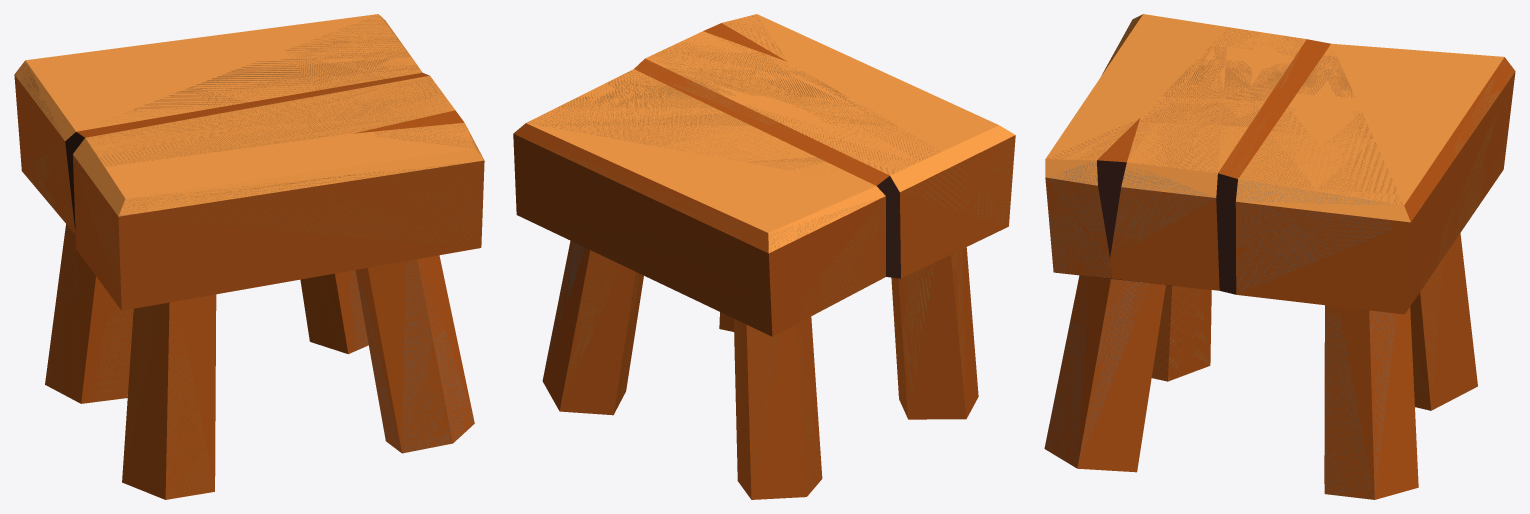
File: sgabello.fbx
The picture shows the model from 3 angles, left to right: view 1: azimuth 30°, elevation 25°; view 2: azimuth 150°, elevation 25°; view 3: azimuth 270°, elevation 25°; orthographic projection. The views are drawn at different scales.
Parts seen in each view (by area): view 1: sgabello 4, sgabello 3; view 2: sgabello 4, sgabello 3; view 3: sgabello 4, sgabello 3.
Part boxes in pixels (x1=…): sgabello 4: x1=14, y1=14, x2=484, y2=499; sgabello 3: x1=15, y1=14, x2=484, y2=499; sgabello 4: x1=513, y1=14, x2=1015, y2=499; sgabello 3: x1=523, y1=14, x2=1015, y2=494; sgabello 4: x1=1044, y1=14, x2=1515, y2=499; sgabello 3: x1=1045, y1=17, x2=1513, y2=499.
Bounding box in the file's own units: 0.4623 × 0.3612 × 0.4505.
